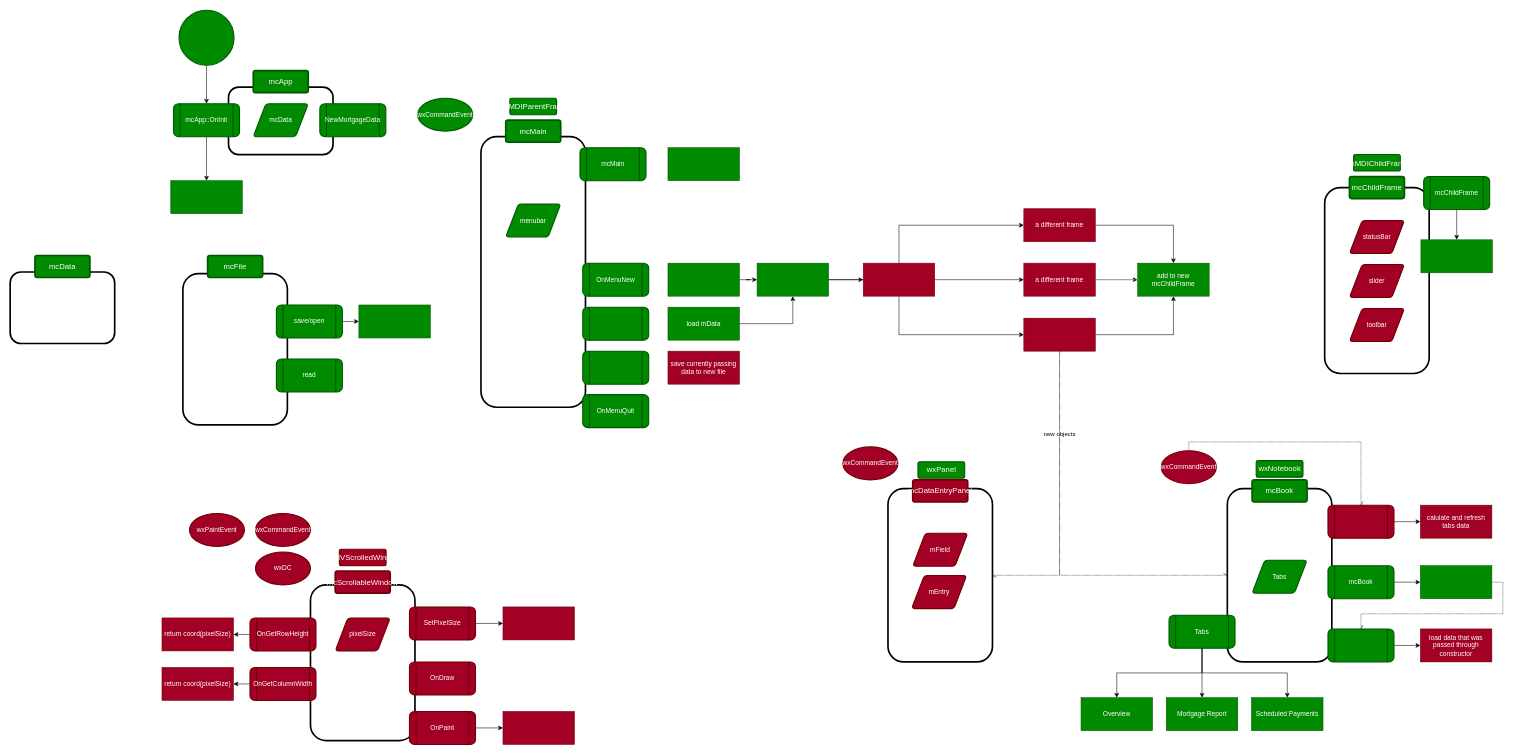
Some shapes in this 1517 by 754 pixel diagram are drawn without their labels. The centre of each missing label's shape, as x and y in pixels:
"call mcApp to make new mData" goes at pixel 793 279.
"create menuBar" goes at pixel 703 164.
"create new mcBook create new mcDataEntryPanel pass data to constructor" goes at pixel 1059 334.
"create tabs" goes at pixel 1456 582.
"file streaming done here" goes at pixel 394 321.
"init members set window size" goes at pixel 1456 256.
"load" goes at pixel 1360 645.
"new mcMain frame" goes at pixel 206 197.
"new mortgage loan layout" goes at pixel 703 279.
"OnMenuOpen" goes at pixel 615 323.
"OnMenuSave" goes at pixel 615 367.
"select type of frame" goes at pixel 899 279.
"set wxBufferedPaintDC" goes at pixel 538 727.
"Start" goes at pixel 206 37.
"update" goes at pixel 1360 521.
"wxVarHScrollHelper::RefreshAll wxVarVScrollHelper::RefreshAll Refresh" goes at pixel 538 623.
